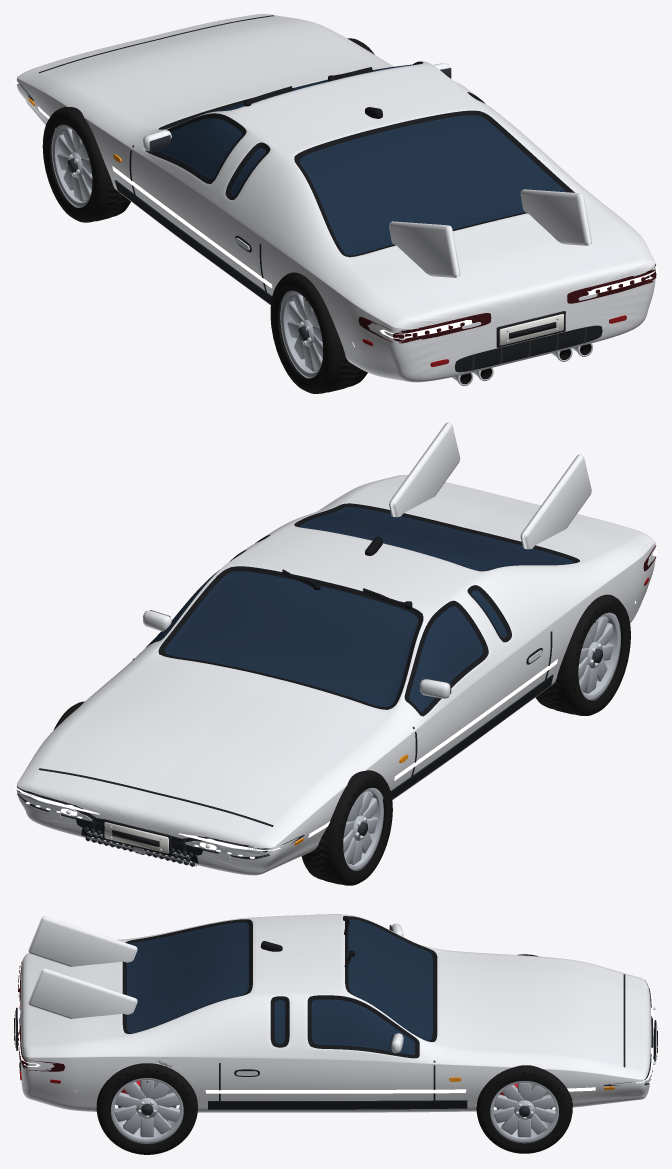
File: phantom.glb
The picture shows the model from 3 angles, top to bottom: view 1: azimuth 30°, elevation 25°; view 2: azimuth 150°, elevation 25°; view 3: azimuth 270°, elevation 25°; orthographic projection. The views are drawn at different scales.
Visible parts, largest first — view 1: Body, Wheel_RL, Wheel_FL; view 2: Body, Wheel_RL, Wheel_FL; view 3: Body, Wheel_RR, Wheel_FR.
Part boxes in pixels (x1,y1,x2,y2): Body: (14, 14, 657, 385); Wheel_RL: (270, 272, 367, 393); Wheel_FL: (42, 107, 130, 222); Body: (14, 422, 657, 875); Wheel_RL: (535, 594, 630, 715); Wheel_FL: (301, 770, 392, 885); Body: (14, 914, 657, 1112); Wheel_RR: (96, 1063, 197, 1154); Wheel_FR: (476, 1065, 572, 1153).
Size of what is drawn, in the model's own units: 2.09 by 1.26 by 4.71.
